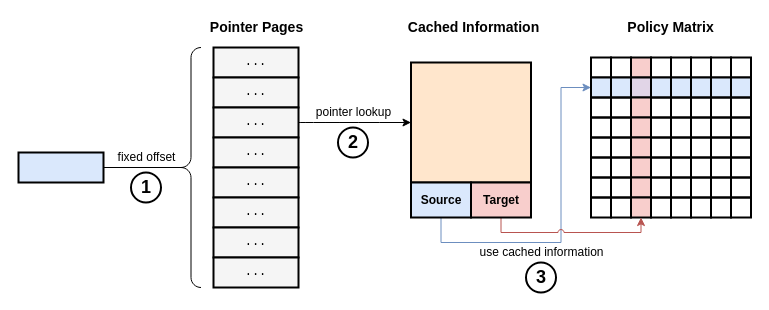
Some shapes in this 769 by 310 pixel diagram are drawn without their labels. Each missing label, with the centre of its shape:
"CODE PAGE" goes at [60,167].
"Disassembly Info" goes at [471,122].
